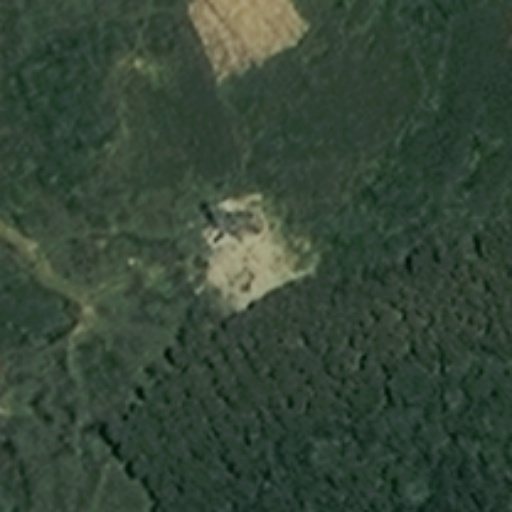landslide: (198, 200, 314, 304), (192, 3, 309, 78)
